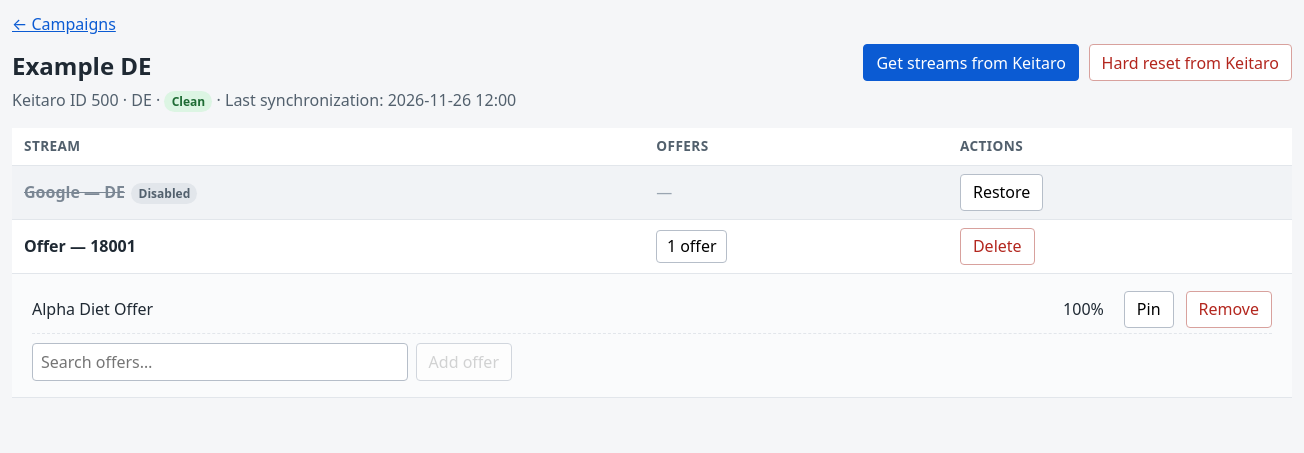
Test: CampaignEditorPage — streams table › shows rule violations next to the affected stream
Expected: the text "Google — DE" is shown, [24,181,125,203]
Click the button "Restore": (1002, 192) [960,174,1043,211]
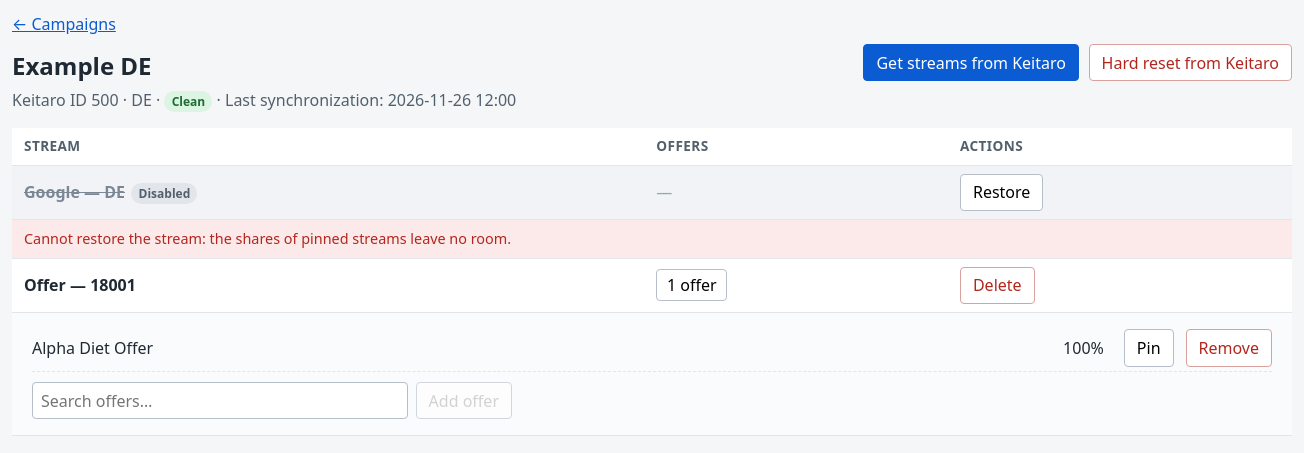
Expected: the message shows "Cannot restore the stream", [24,229,511,248]
